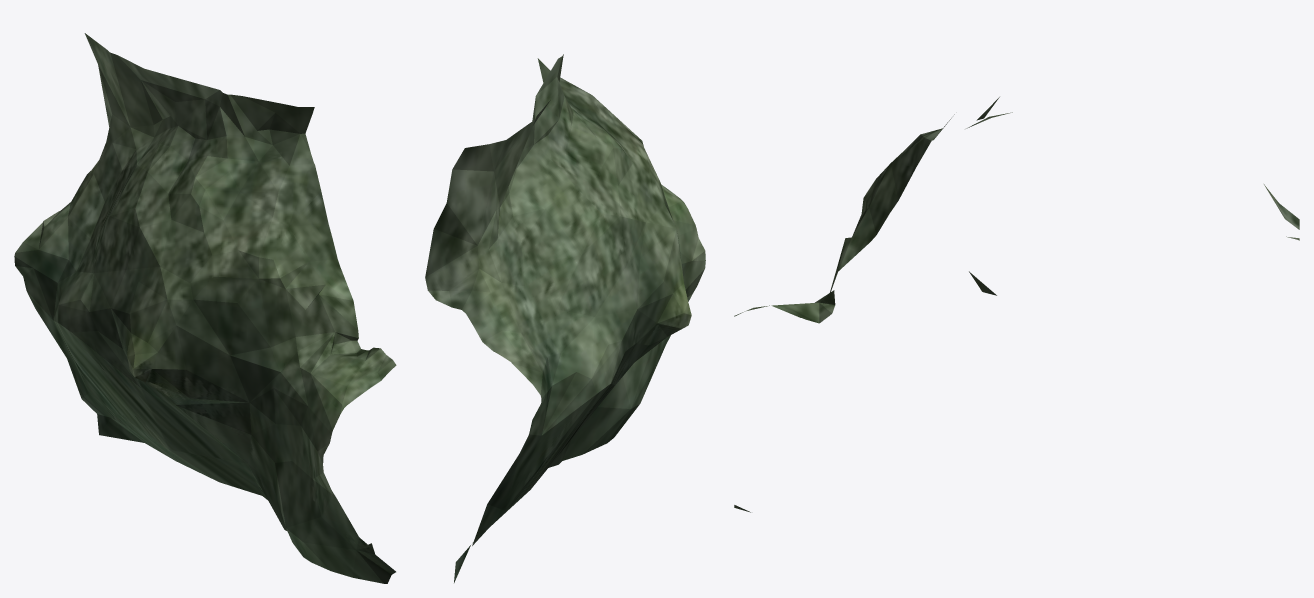
3 renders of one model, left to right at view 1: azimuth 30°, elevation 25°; view 2: azimuth 150°, elevation 25°; view 3: azimuth 270°, elevation 25°, orthographic. The views are drawn at different scales.
Bounding box in the file's own units: 1.18 × 2.95 × 2.95.
3 materials, 3 textured.
